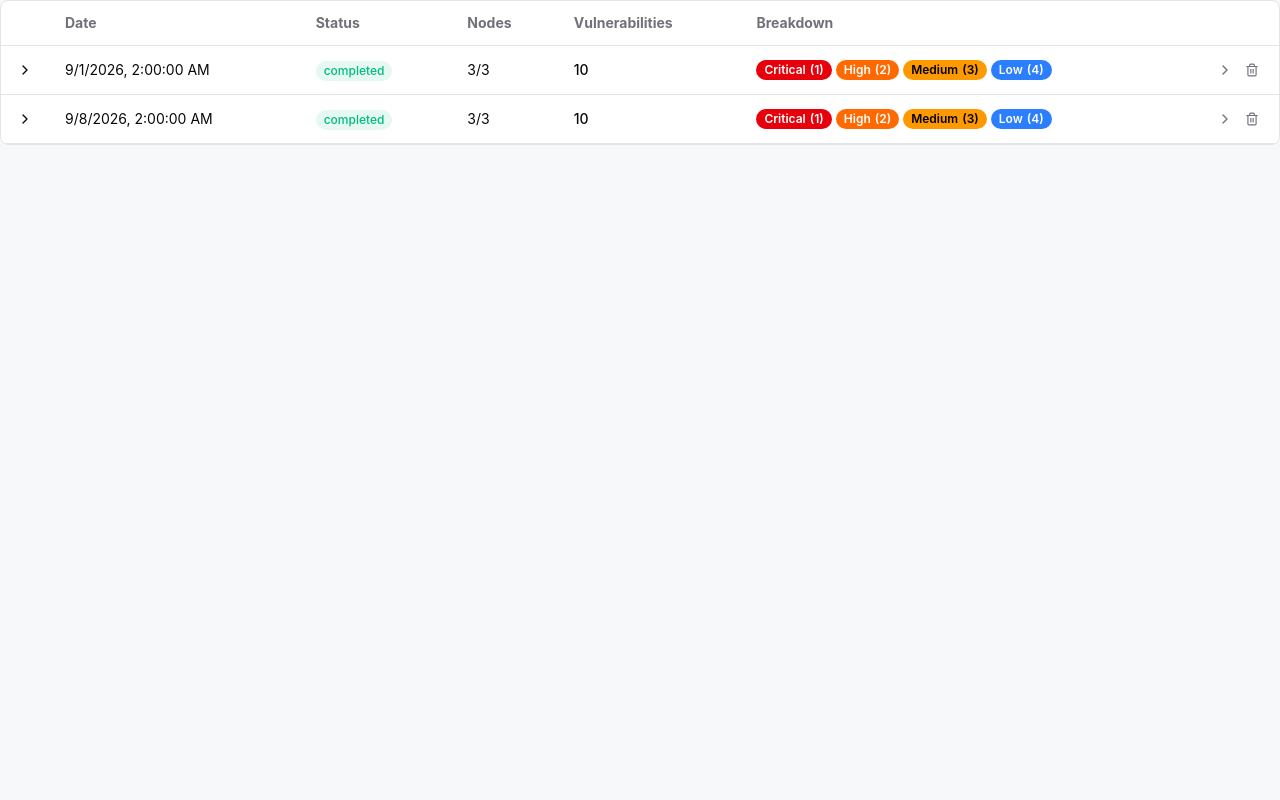
Test: ScanHistoryTable — delete › asks first, naming the scan, and sends nothing yet
Click the button named "Delete scan" in the row of "9/8/2026, 2:00:00 AM": [1252, 119] box [1241,107,1263,131]
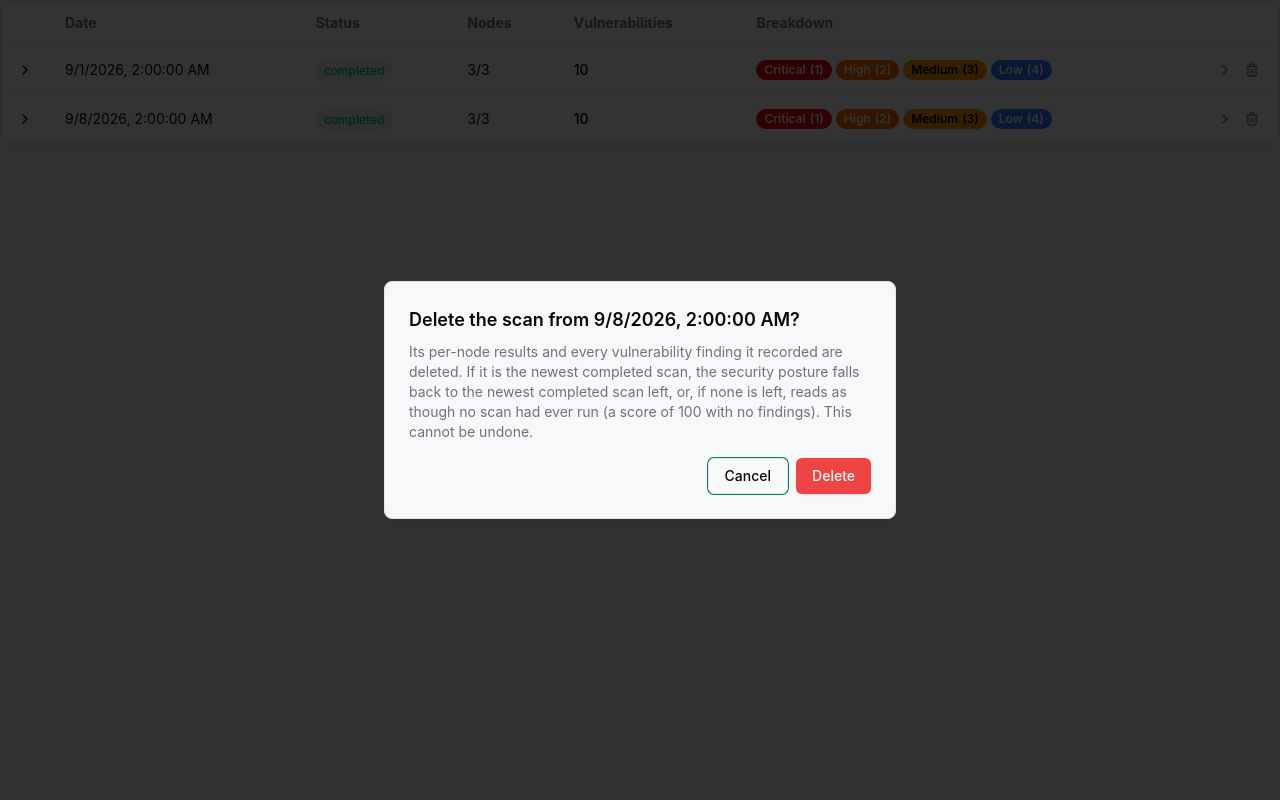
Result: the dialog shows "every vulnerability finding it recorded are deleted" at [409,343,860,440]
Result: the dialog shows "if none is left, reads as though no scan had ever run" at [409,343,860,440]
